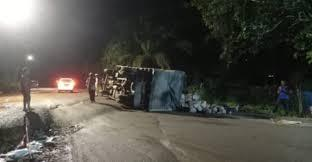Pothole: (1, 120, 42, 162)
